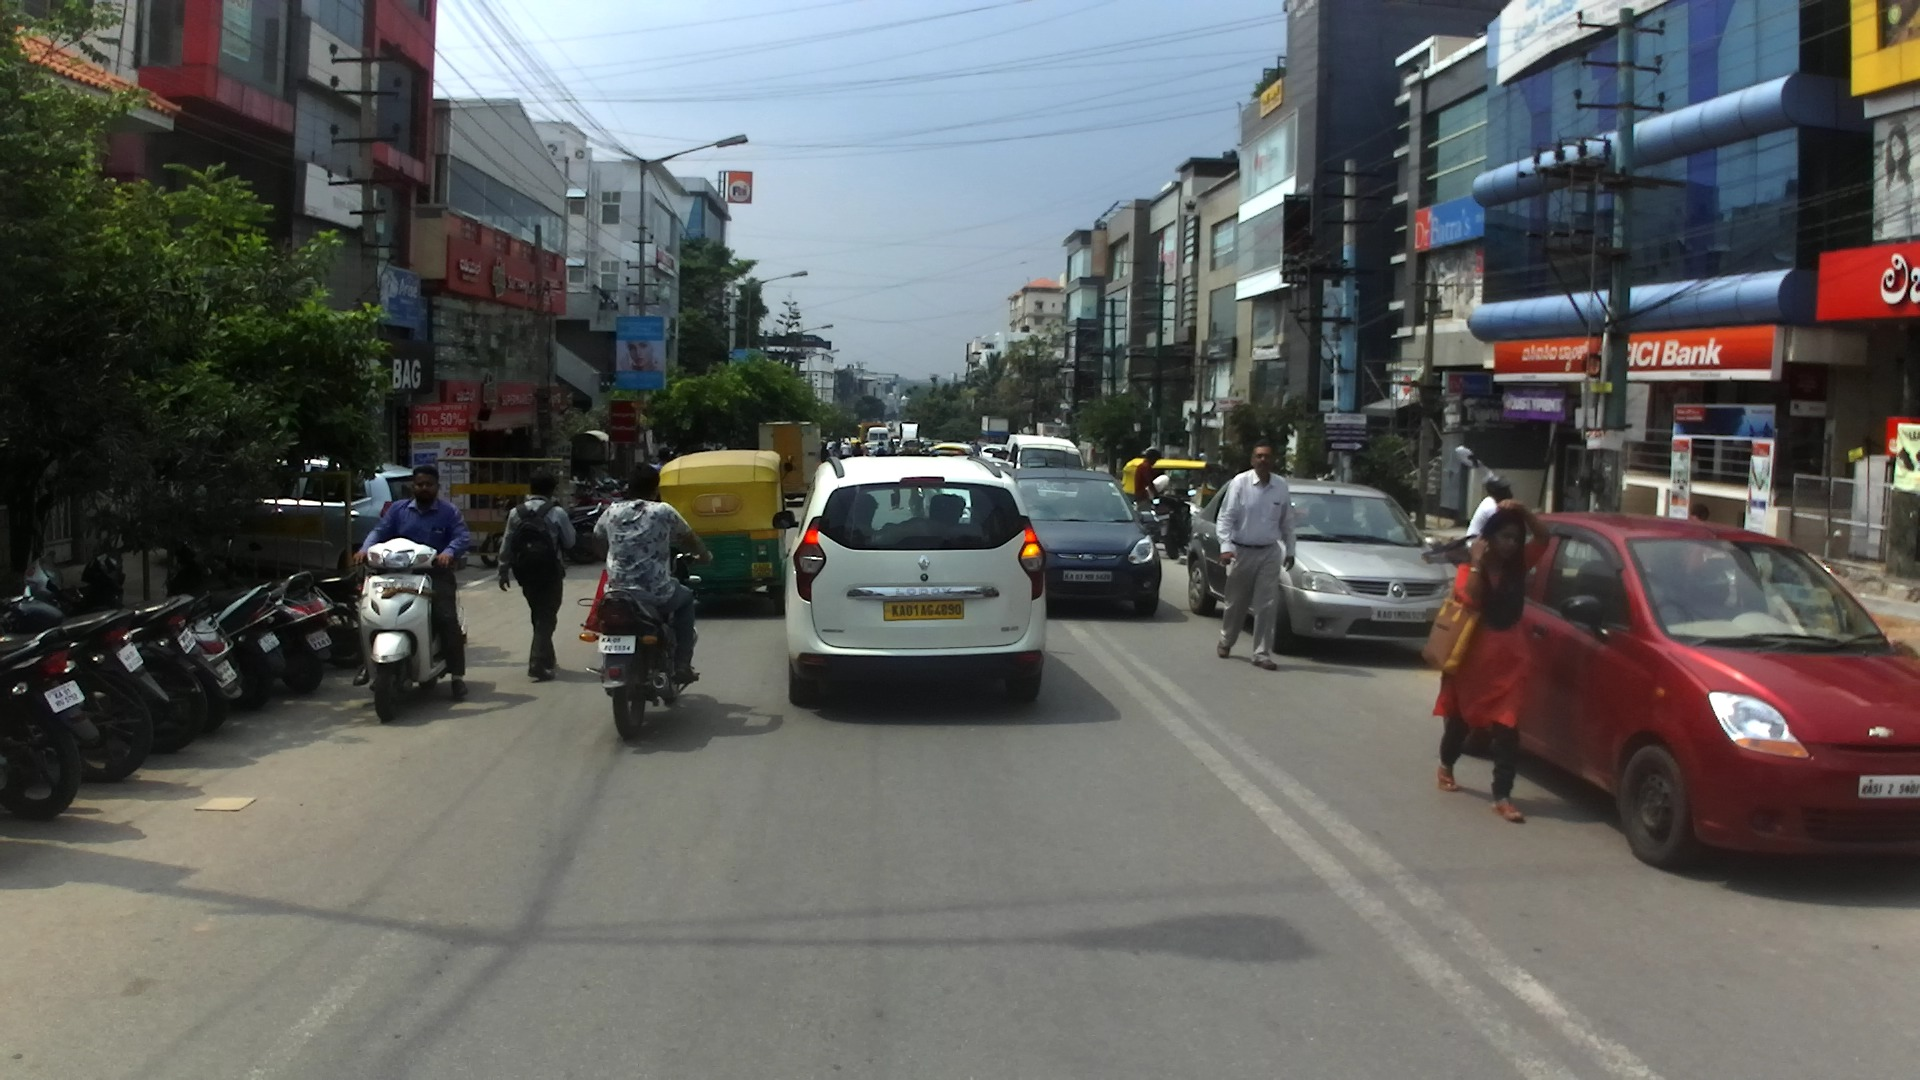autorickshaw: (657, 449, 793, 613), (1120, 458, 1219, 517)
bus: (865, 426, 889, 450)
car: (1441, 512, 1917, 891), (770, 455, 1059, 706), (1184, 478, 1464, 655), (262, 456, 441, 585), (1007, 469, 1163, 616), (1003, 433, 1088, 471), (925, 442, 976, 456), (979, 442, 1008, 461), (897, 437, 921, 457), (826, 442, 852, 458), (922, 440, 944, 455)
motorcycle: (19, 550, 244, 732), (79, 542, 293, 705), (0, 592, 166, 785), (579, 547, 713, 738), (164, 545, 365, 668), (163, 565, 340, 693), (355, 537, 466, 720), (1, 626, 104, 817), (479, 500, 608, 566), (1151, 486, 1199, 565), (568, 477, 618, 511), (591, 466, 630, 501)
person: (1435, 499, 1550, 823), (1213, 438, 1297, 669), (498, 468, 582, 681), (1679, 503, 1711, 521), (1198, 446, 1207, 460)
rider: (343, 468, 470, 695), (593, 460, 710, 682), (1465, 476, 1516, 553), (1132, 450, 1171, 547), (654, 447, 674, 473), (850, 442, 865, 457), (885, 439, 898, 456), (872, 443, 888, 456)
truck: (757, 421, 824, 498), (860, 422, 888, 446), (898, 422, 920, 449)
vehicle fallback: (887, 418, 898, 430)
